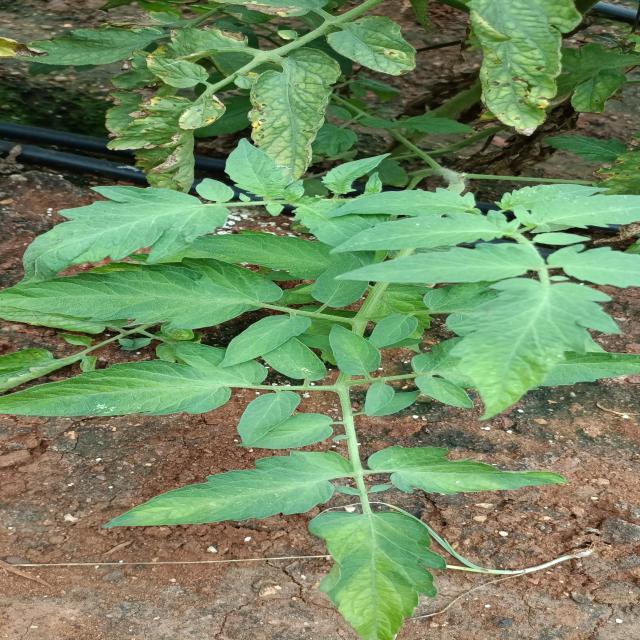Healthy Leaf: (11, 178, 254, 286), (448, 272, 602, 435), (84, 450, 350, 532), (3, 359, 240, 422), (370, 442, 582, 497), (319, 213, 536, 253), (312, 324, 392, 378)
